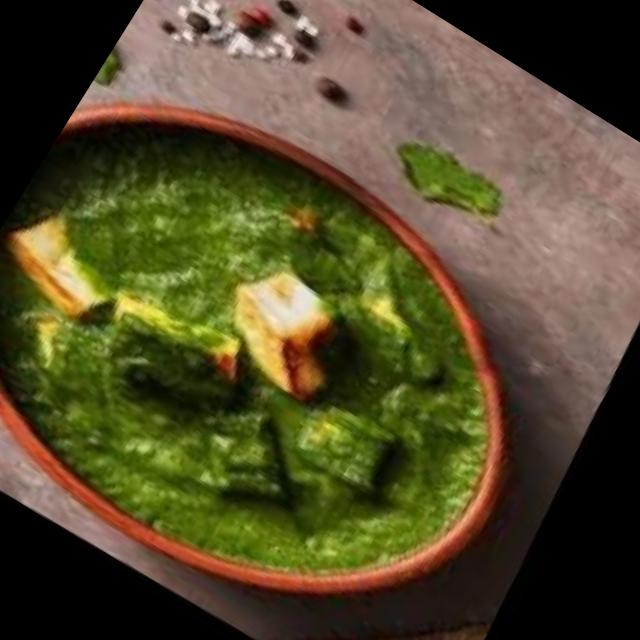palak_paneer: (0, 43, 593, 640)
